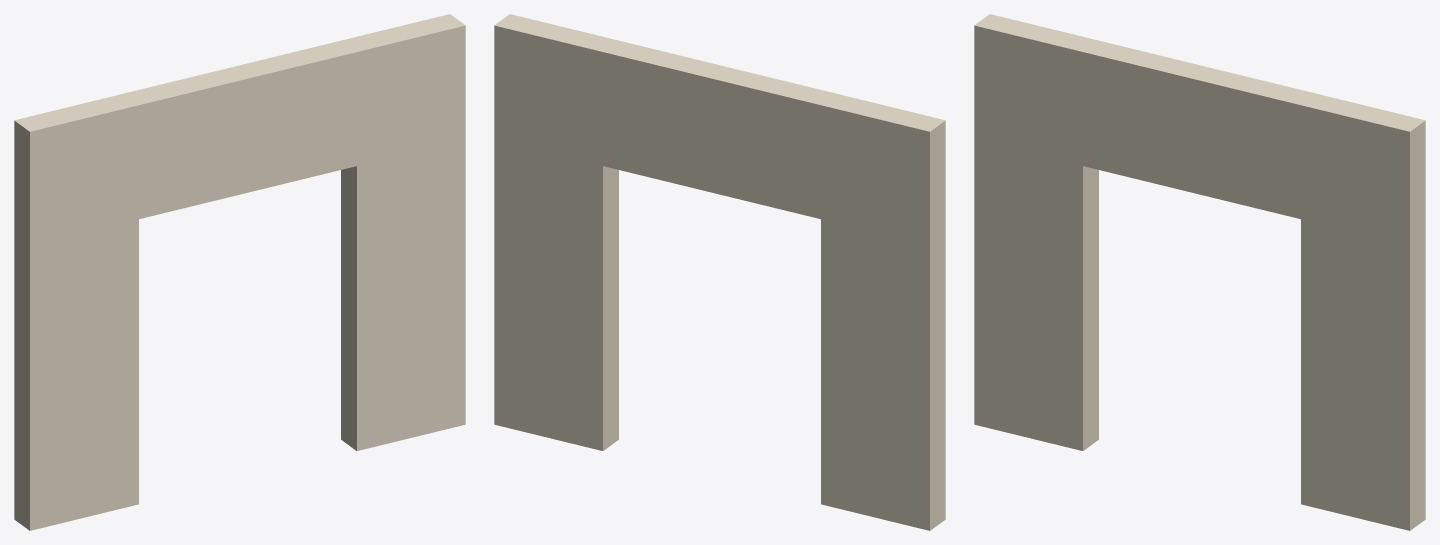
The model's file is kit_wall_door.glb.
3 renders of one model, left to right at view 1: azimuth 30°, elevation 25°; view 2: azimuth 150°, elevation 25°; view 3: azimuth 330°, elevation 25°, orthographic.
Parts seen in each view (by area): view 1: kit_wall_door-col; view 2: kit_wall_door-col; view 3: kit_wall_door-col.
Boxes of the visible parts, bbox=[...] form: kit_wall_door-col: bbox=[14, 14, 465, 530]; kit_wall_door-col: bbox=[494, 14, 945, 530]; kit_wall_door-col: bbox=[974, 14, 1425, 530].
Bounding box in the file's own units: 4 × 3.5 × 0.25.
